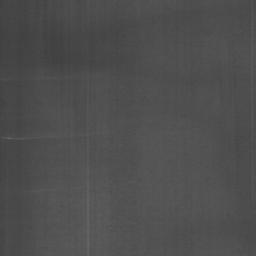Waist folding: (0, 134, 144, 142), (229, 209, 256, 215), (41, 75, 70, 80), (129, 177, 141, 184), (0, 189, 38, 191), (107, 224, 135, 226), (237, 64, 256, 66), (73, 247, 92, 249)
